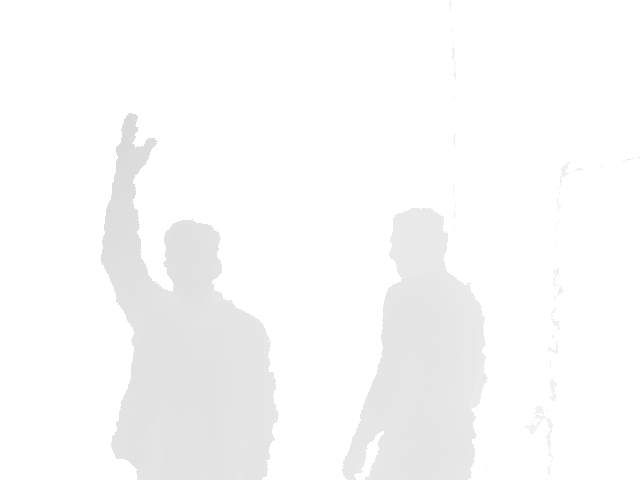hand: (113, 112, 158, 178)
head: (162, 218, 223, 297), (387, 207, 449, 283)
person: (99, 112, 278, 480), (341, 207, 488, 480)
